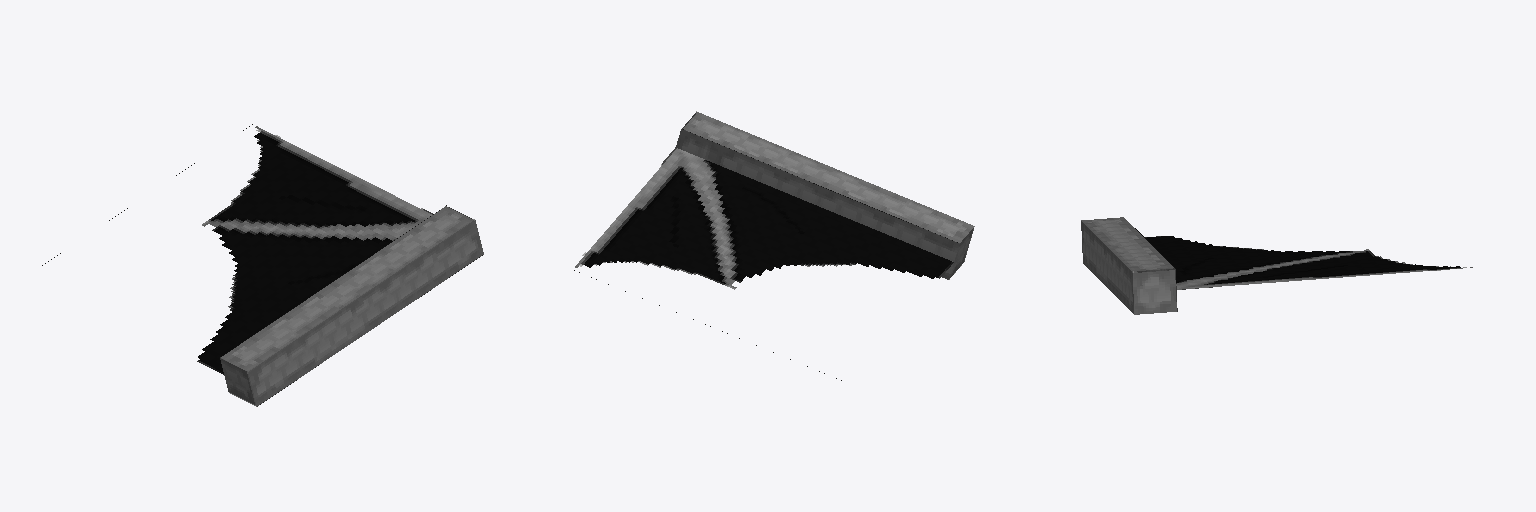
3 views of the same model, side by side, from view 1: azimuth 30°, elevation 25°; view 2: azimuth 150°, elevation 25°; view 3: azimuth 270°, elevation 25° (orthographic).
Parts seen in each view (by area): view 1: Enderdragon_Malla; view 2: Enderdragon_Malla; view 3: Enderdragon_Malla.
Boxes of the visible parts, x1=… form: Enderdragon_Malla: x1=42, y1=124, x2=483, y2=406; Enderdragon_Malla: x1=574, y1=111, x2=974, y2=380; Enderdragon_Malla: x1=1081, y1=217, x2=1472, y2=314.
Size of the model in its own units: 10.4 by 3.53 by 11.54.
1 materials, 1 textured.